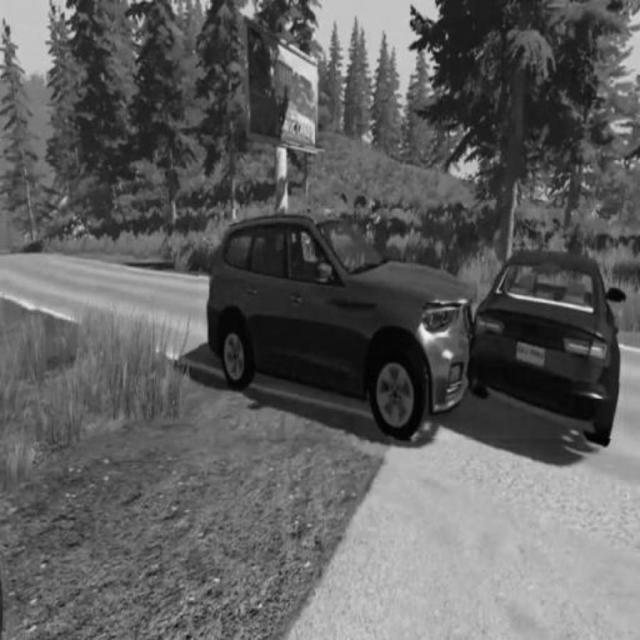accident: (199, 210, 623, 440)
